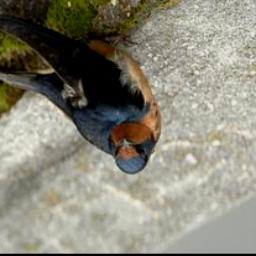Swallow: (0, 15, 162, 178)
